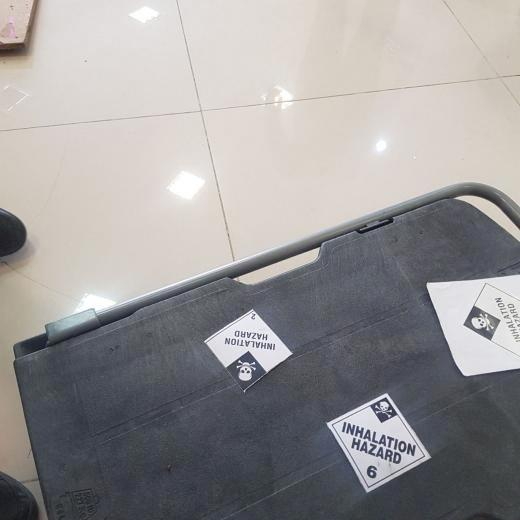poison: (328, 392, 431, 492), (205, 309, 292, 393), (463, 283, 520, 356)
